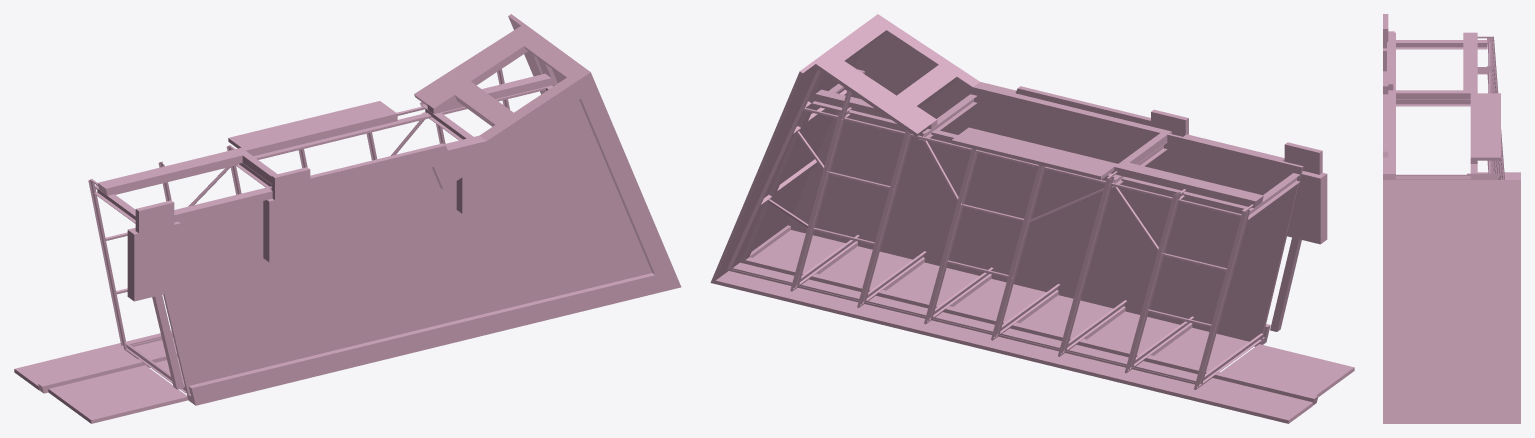
The model's file is example.glb.
3 renders of one model, left to right at view 1: azimuth 30°, elevation 25°; view 2: azimuth 150°, elevation 25°; view 3: azimuth 270°, elevation 25°, orthographic. The views are drawn at different scales.
Size of the model in its own units: 25.3 by 9.74 by 5.92.
